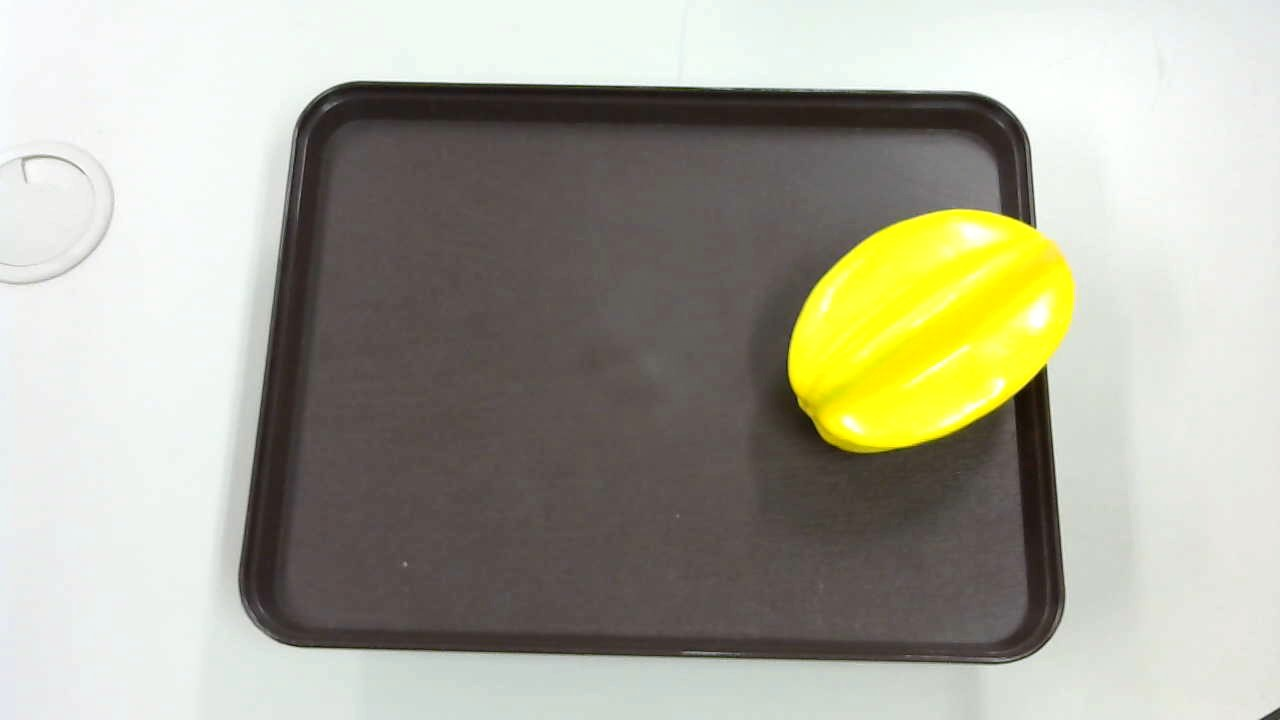star fruit: (779, 207, 1083, 456)
